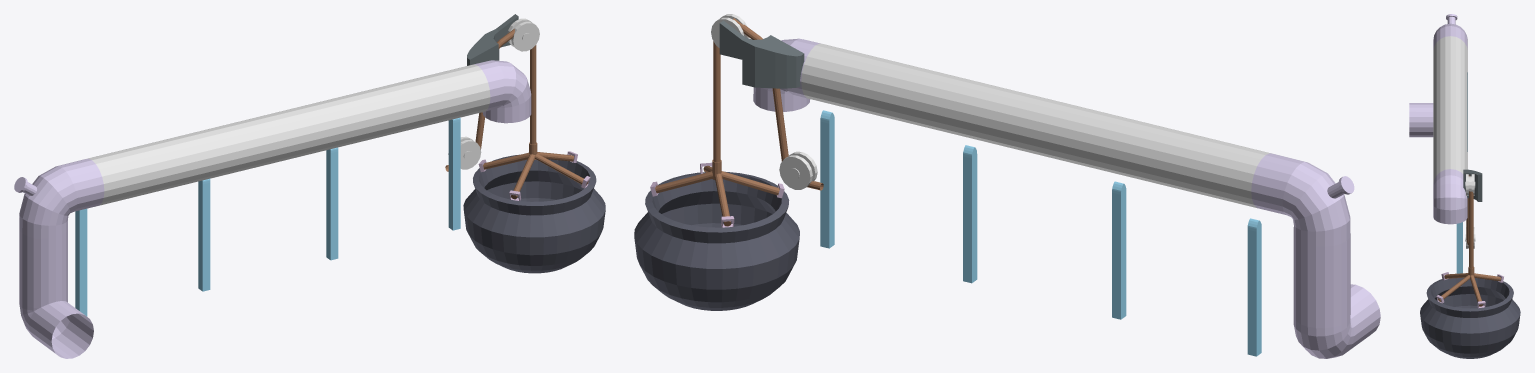
Rendered from Kazan.fbx.
3 views of the same model, side by side, from view 1: azimuth 30°, elevation 25°; view 2: azimuth 150°, elevation 25°; view 3: azimuth 270°, elevation 25° (orthographic). The views are drawn at different scales.
Parts seen in each view (by area): view 1: Orta Boru, Kenar Boru, Kazan.001, Kazan, kapı.001, kapı.002, kapı, kapı.003, Siyah Şey, Makara, Makara.001; view 2: Orta Boru, Kazan.001, Kenar Boru, Siyah Şey, Kazan, kapı.002, kapı.003, kapı.001, kapı, Makara.001, İp; view 3: Kazan.001, Orta Boru, Kenar Boru, Kazan, Siyah Şey, kapı, Makara, İp.
Boxes of the visible parts, <box> form: Orta Boru: <box>88,64,490,205</box>; Kenar Boru: <box>19,60,531,358</box>; Kazan.001: <box>463,154,605,273</box>; Kazan: <box>478,45,590,200</box>; kapı.001: <box>326,147,338,260</box>; kapı.002: <box>198,178,210,291</box>; kapı: <box>448,117,460,230</box>; kapı.003: <box>75,208,87,316</box>; Siyah Şey: <box>467,14,518,65</box>; Makara: <box>507,18,539,51</box>; Makara.001: <box>448,136,481,169</box>; Orta Boru: <box>801,43,1271,207</box>; Kazan.001: <box>634,171,799,310</box>; Kenar Boru: <box>753,38,1380,358</box>; Siyah Şey: <box>719,20,804,88</box>; Kazan: <box>650,41,784,227</box>; kapı.002: <box>1112,181,1126,319</box>; kapı.003: <box>1247,218,1261,356</box>; kapı.001: <box>963,145,977,283</box>; kapı: <box>820,110,834,248</box>; Makara.001: <box>779,151,817,189</box>; İp: <box>733,18,823,190</box>; Kazan.001: <box>1420,277,1520,358</box>; Orta Boru: <box>1433,36,1467,182</box>; Kenar Boru: <box>1409,23,1467,224</box>; Kazan: <box>1436,191,1503,308</box>; Siyah Şey: <box>1463,169,1482,201</box>; kapı: <box>1456,222,1462,273</box>; Makara: <box>1465,174,1475,195</box>; İp: <box>1466,175,1470,247</box>.
Bounding box in the file's own units: 420 × 165 × 96.52.
